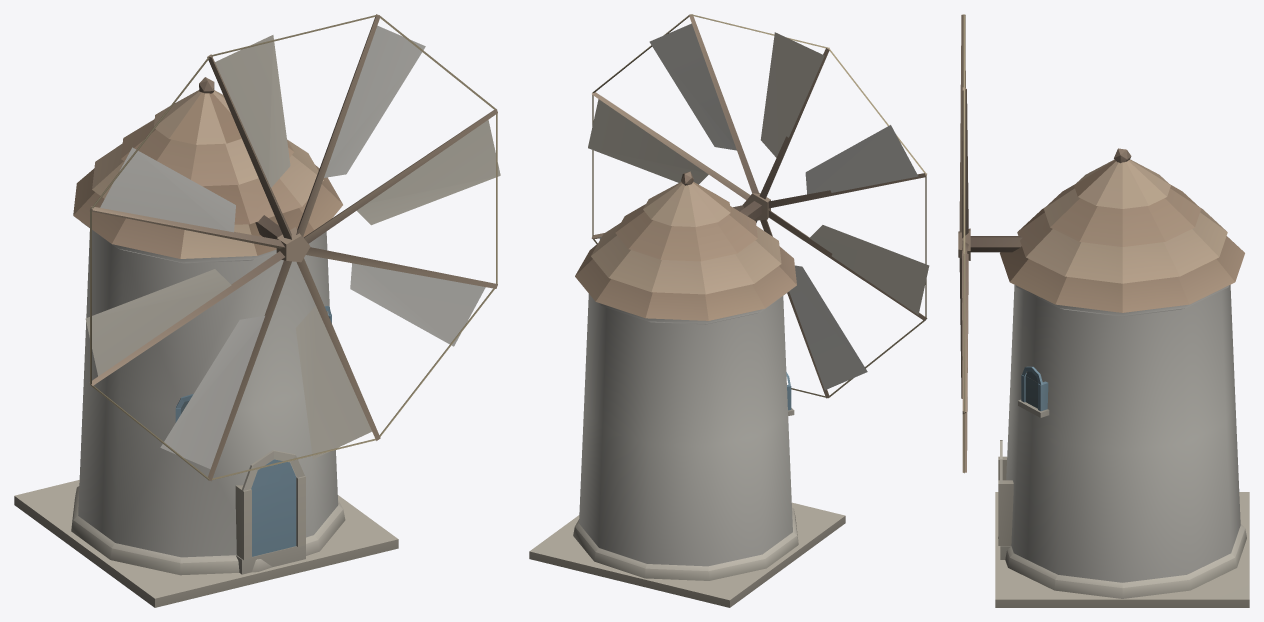
File: windmill.lod1.glb
The picture shows the model from 3 angles, left to right: view 1: azimuth 30°, elevation 25°; view 2: azimuth 150°, elevation 25°; view 3: azimuth 270°, elevation 25°; orthographic projection. The views are drawn at different scales.
Bounding box in the file's own units: 9.37 × 12.09 × 6.3.
